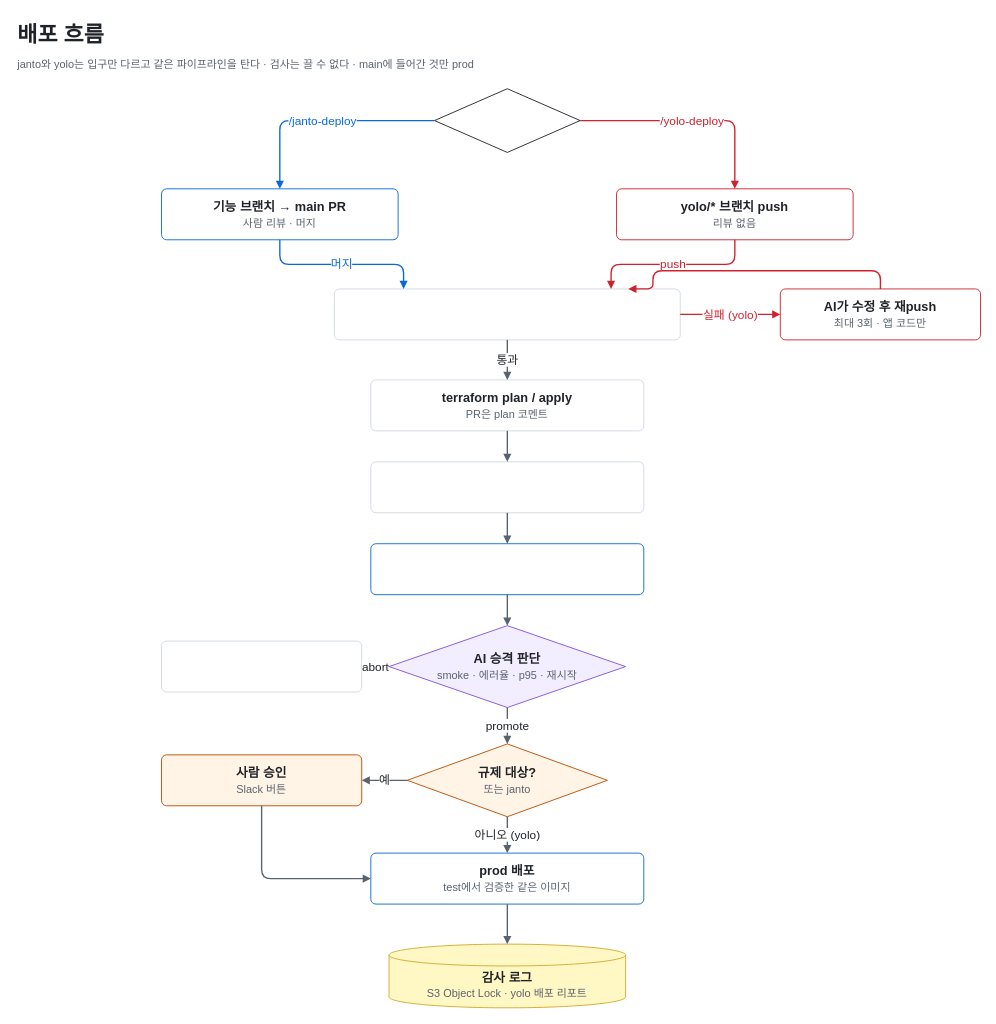
Image size: 996x1024. Some labels were removed from this diagram. The centre of each missing label's shape, as x and y in pixels:
abort green 폐기 · blue 유지: the point at 261,666
test 배포 Blue-Green · green 생성 · Paused: the point at 507,569
검사 정적분석 · 테스트 · Trivy · gitleaks · 라이선스 · IaC: the point at 507,314
배포 경로: the point at 507,120
이미지 빌드 태그 = 커밋 SHA · push 직전 Trivy: the point at 507,487
